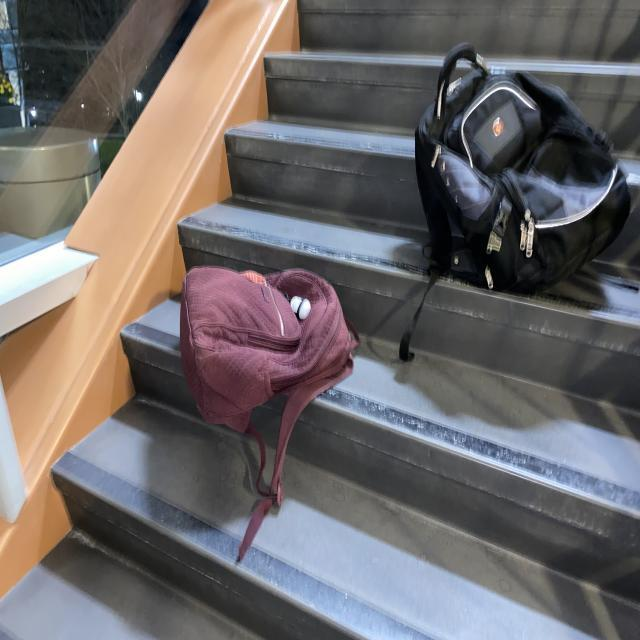Backpacks: (415, 46, 640, 312), (178, 262, 358, 428)
